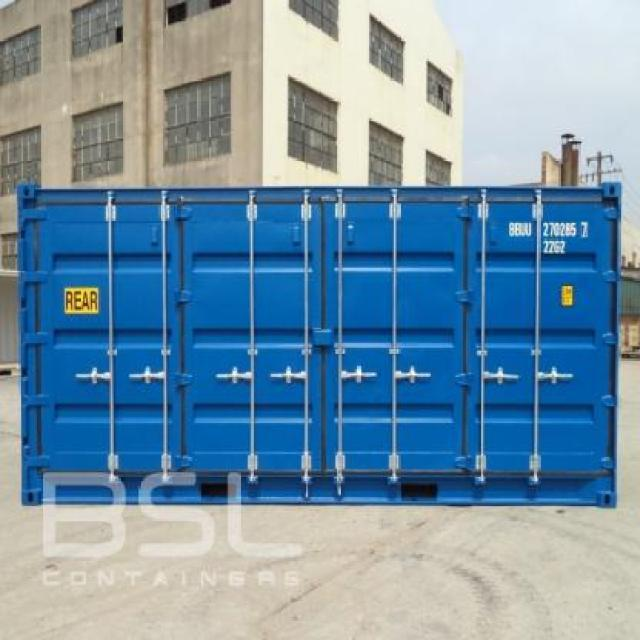ISO: (536, 241, 570, 256)
container_number: (506, 222, 592, 238)
